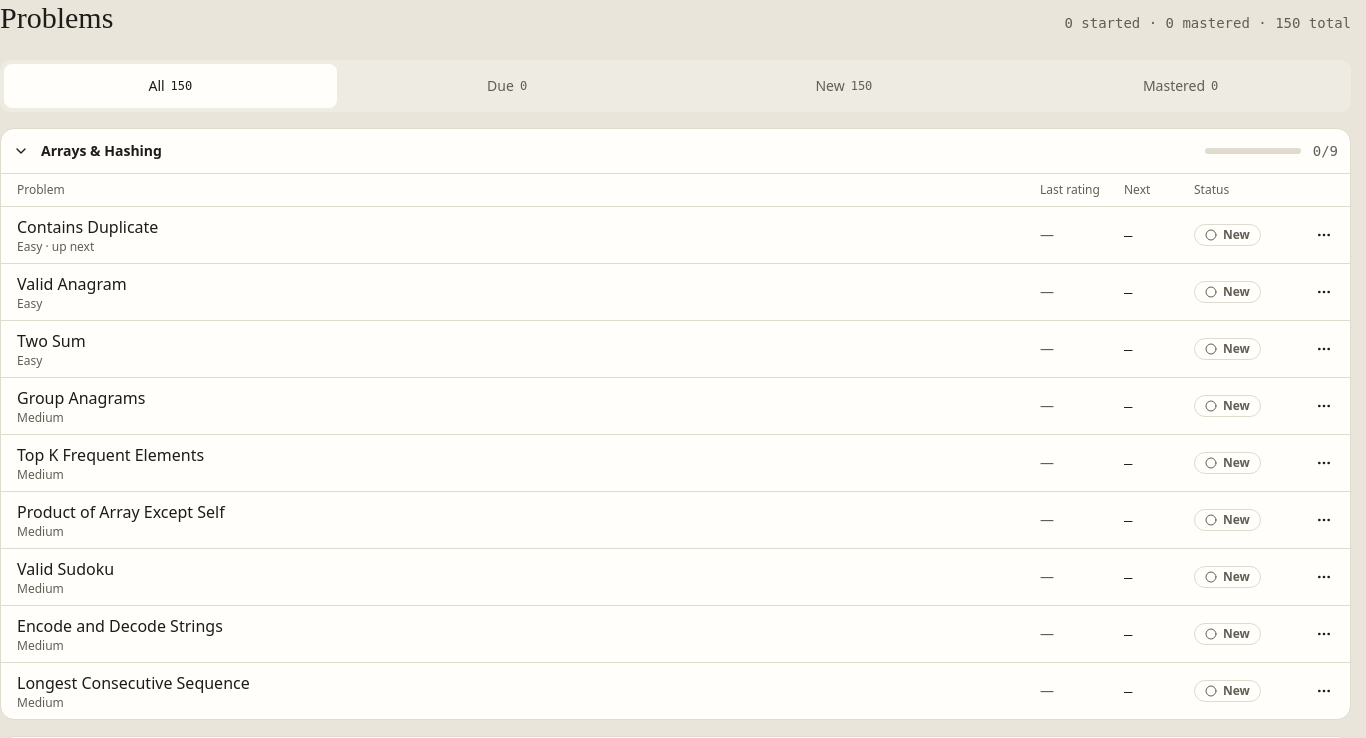
Test: ProblemsPage › marks a new problem as mastered after the confirmation, changing its badge
The image size is (1366, 738).
Step 1. Click the button named "Actions for Contains Duplicate" in the row of "Contains Duplicate" → (1324,235), box [1302,213,1346,257]
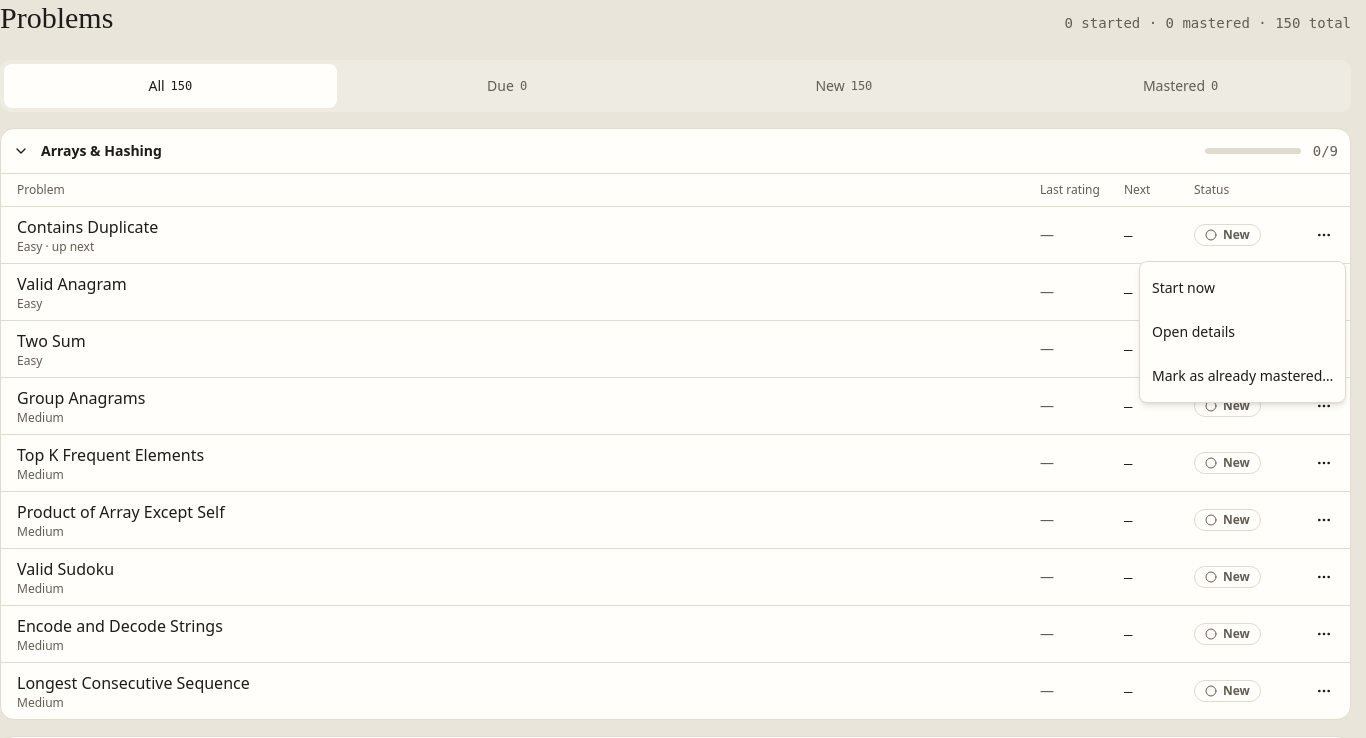
Step 2. Click the menu item "Mark as already mastered…" → (1243,376), box [1152,366,1334,385]
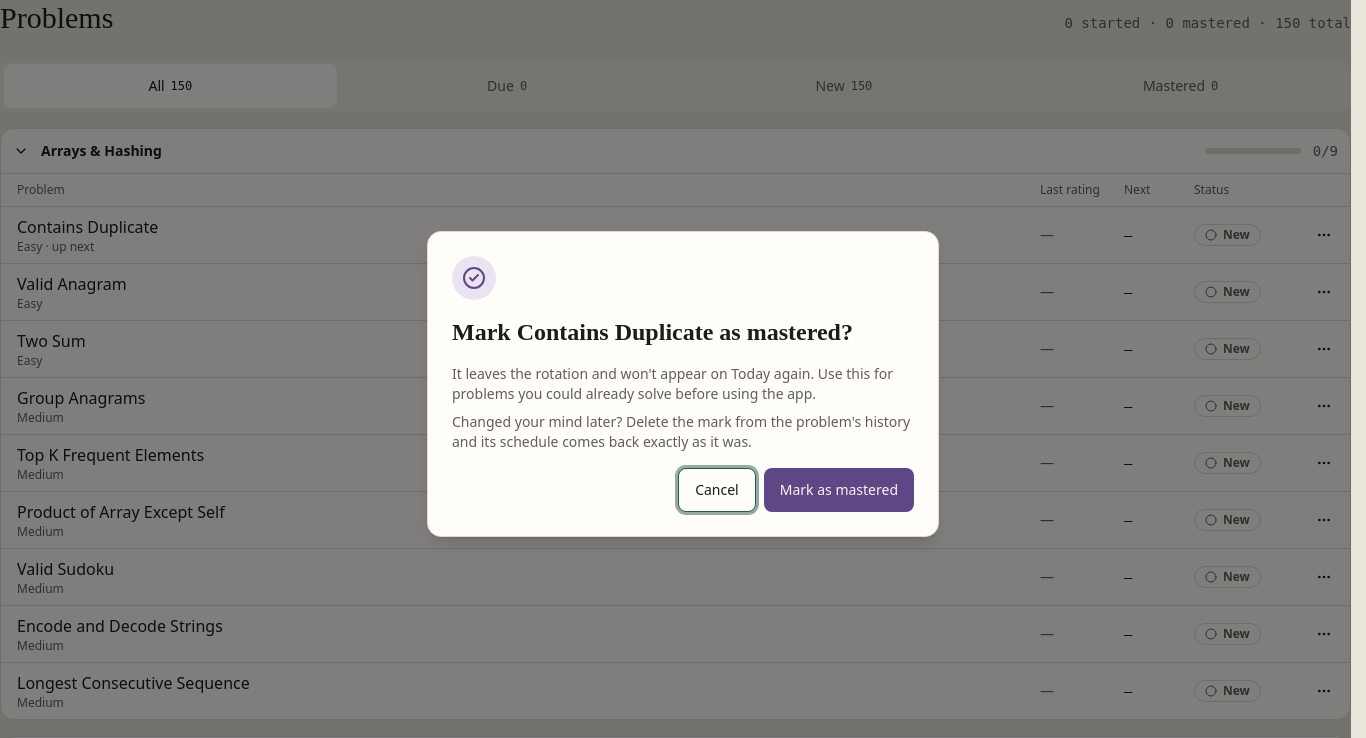
Expected: the text "It leaves the rotation" is shown, [452,364,893,403]
Step 3. Click the button "Mark as mastered" → (839,490), box [764,468,914,512]
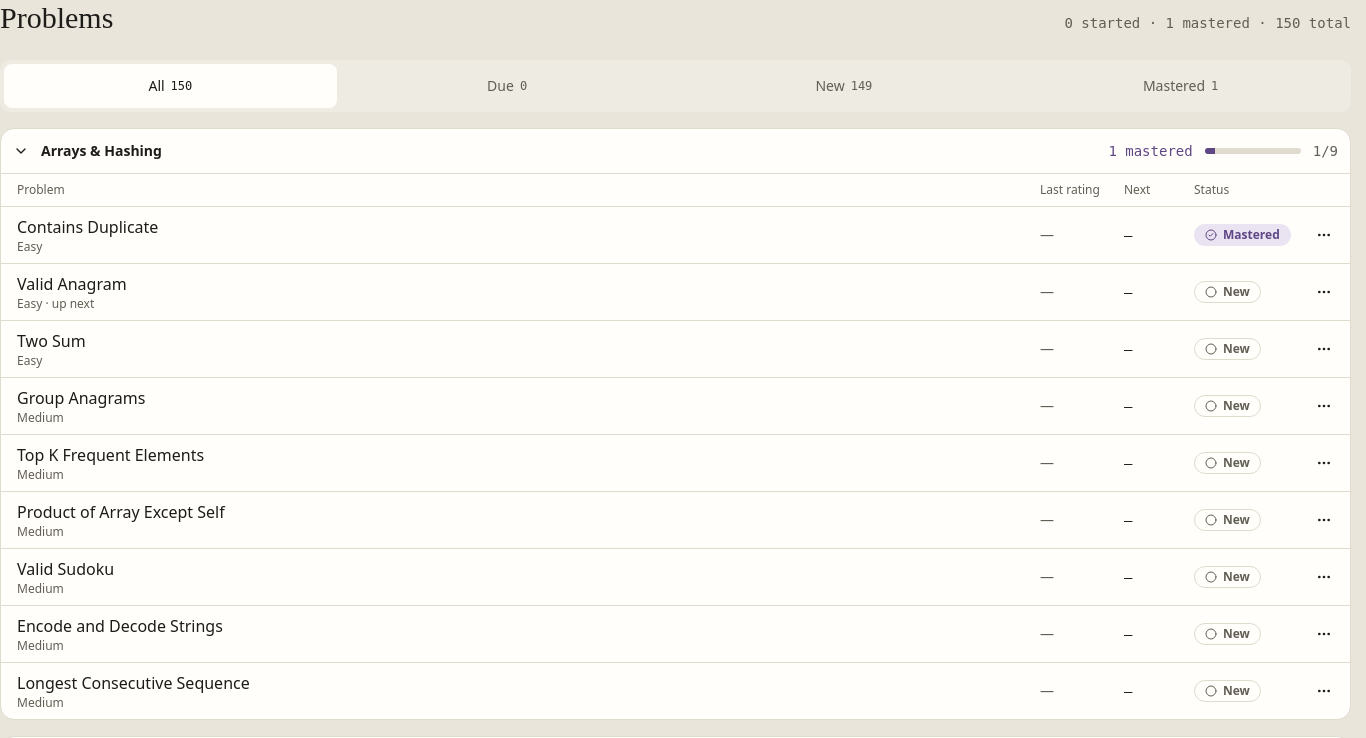
Expected: the dialog is gone
Expected: the text "Mastered" is shown, [1194,224,1291,246]
